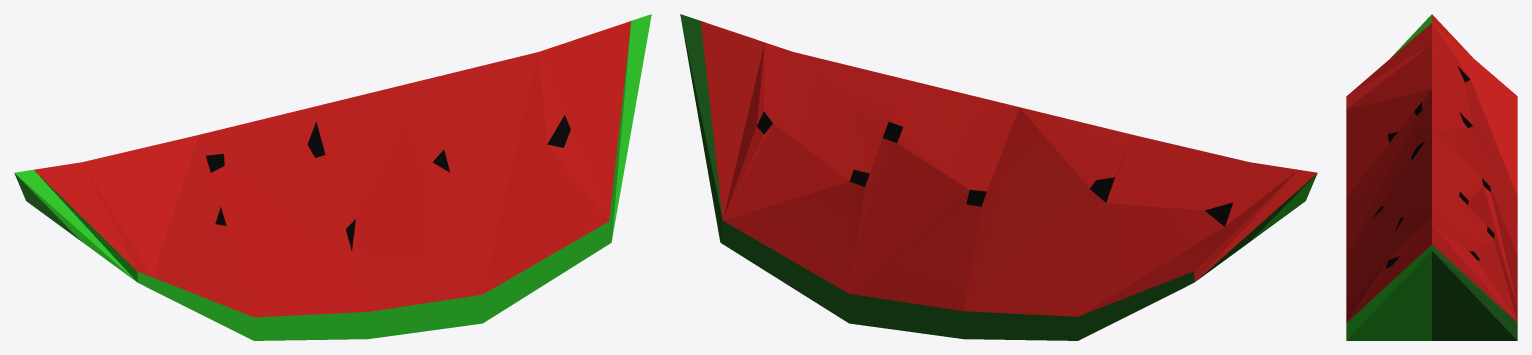
Rendered from Cut Watermelon.fbx.
3 renders of one model, left to right at view 1: azimuth 30°, elevation 25°; view 2: azimuth 150°, elevation 25°; view 3: azimuth 270°, elevation 25°, orthographic. The views are drawn at different scales.
Visible parts, largest first — view 1: Cut Watermelon, Cut Watermelon .001; view 2: Cut Watermelon, Cut Watermelon .001; view 3: Cut Watermelon, Cut Watermelon .001.
Boxes of the visible parts, x1,y1,x2,y2 form: Cut Watermelon: (312, 14, 651, 338); Cut Watermelon .001: (14, 107, 368, 340); Cut Watermelon: (680, 14, 1019, 338); Cut Watermelon .001: (963, 107, 1317, 340); Cut Watermelon: (1346, 132, 1517, 340); Cut Watermelon .001: (1346, 14, 1517, 256).
Bounding box in the file's own units: 608 × 195 × 184.
